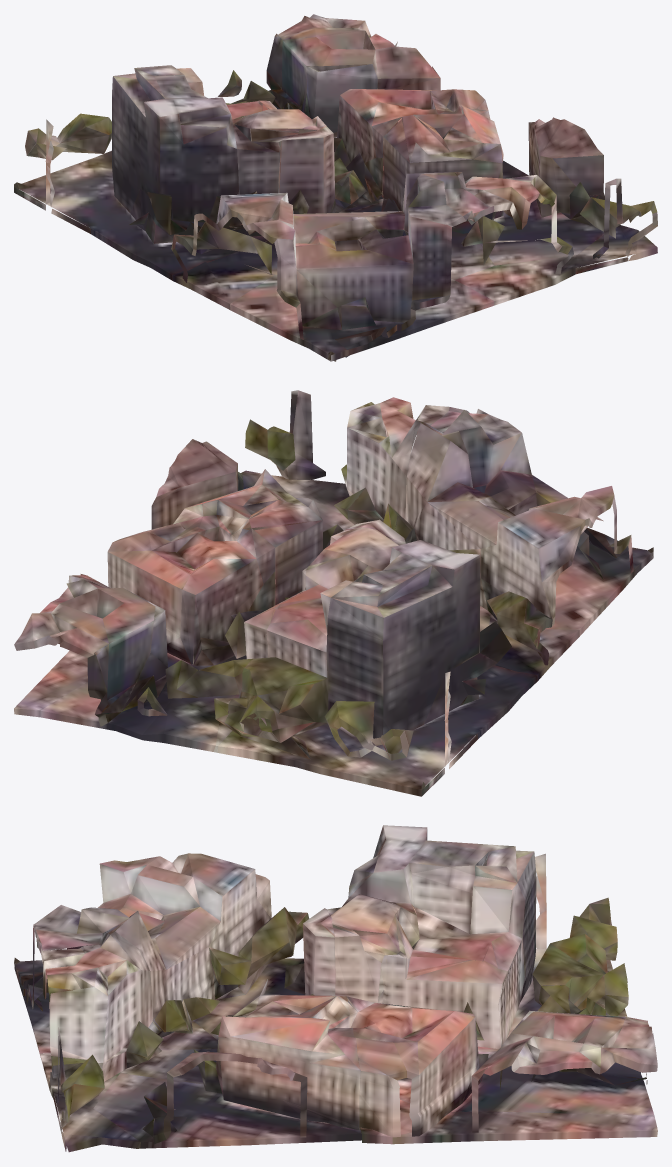
3 renders of one model, top to bottom at view 1: azimuth 30°, elevation 25°; view 2: azimuth 150°, elevation 25°; view 3: azimuth 270°, elevation 25°, orthographic. The views are drawn at different scales.
Visible parts, largest first — view 1: Mesh_0; view 2: Mesh_0; view 3: Mesh_0.
Part boxes in pixels (<box>): Mesh_0: <box>14,14,657,361</box>; Mesh_0: <box>14,390,653,796</box>; Mesh_0: <box>14,825,657,1152</box>.
Size of the model in its own units: 133 by 43.41 by 165.
1 material, 1 textured.
